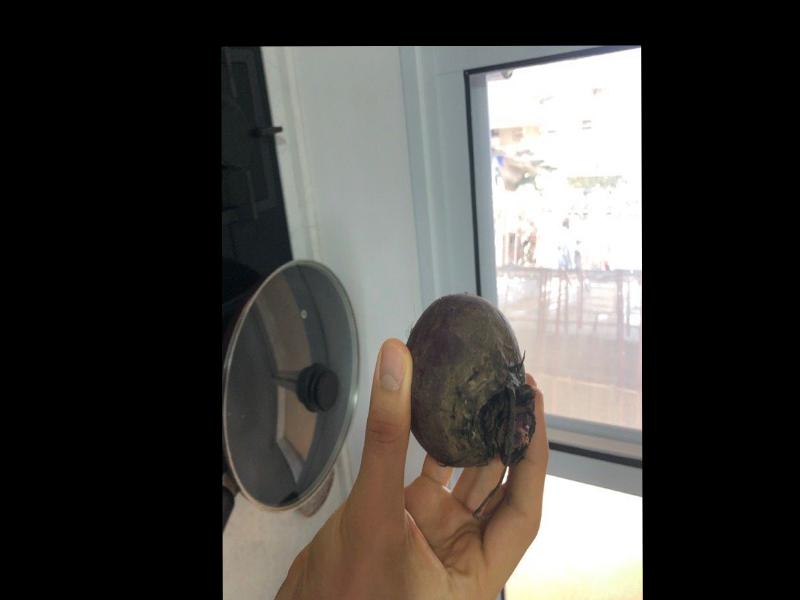Beet: (404, 293, 536, 518)
